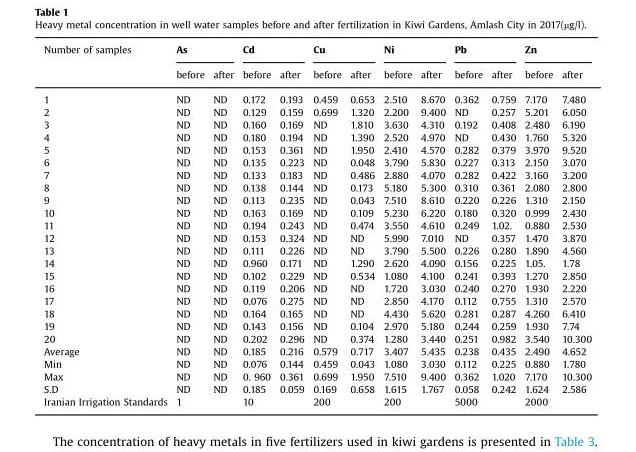table: (43, 42, 590, 406)
table column: (43, 42, 171, 406), (171, 42, 208, 406), (237, 42, 274, 406), (308, 42, 345, 406), (378, 42, 415, 406), (449, 42, 486, 406), (519, 42, 556, 406), (274, 42, 308, 406), (415, 42, 449, 406), (556, 42, 590, 406), (345, 42, 378, 406), (486, 42, 519, 406), (208, 42, 237, 406)
table column header: (43, 42, 590, 86)
table row: (43, 61, 590, 86), (43, 42, 590, 61), (43, 86, 590, 105), (43, 117, 590, 130), (43, 130, 590, 143), (43, 155, 590, 168), (43, 180, 590, 193), (43, 205, 590, 218), (43, 218, 590, 231), (43, 243, 590, 256), (43, 268, 590, 281), (43, 281, 590, 294), (43, 306, 590, 319), (43, 331, 590, 344), (43, 344, 590, 357), (43, 369, 590, 382), (43, 105, 590, 117), (43, 143, 590, 155), (43, 168, 590, 180), (43, 193, 590, 205), (43, 231, 590, 243), (43, 256, 590, 268), (43, 294, 590, 306), (43, 319, 590, 331), (43, 357, 590, 369), (43, 382, 590, 394), (43, 394, 590, 406)
table spanning cell: (43, 42, 171, 86), (237, 42, 308, 61), (378, 42, 449, 61), (519, 42, 590, 61), (308, 42, 378, 61), (449, 42, 519, 61), (171, 42, 237, 61)
